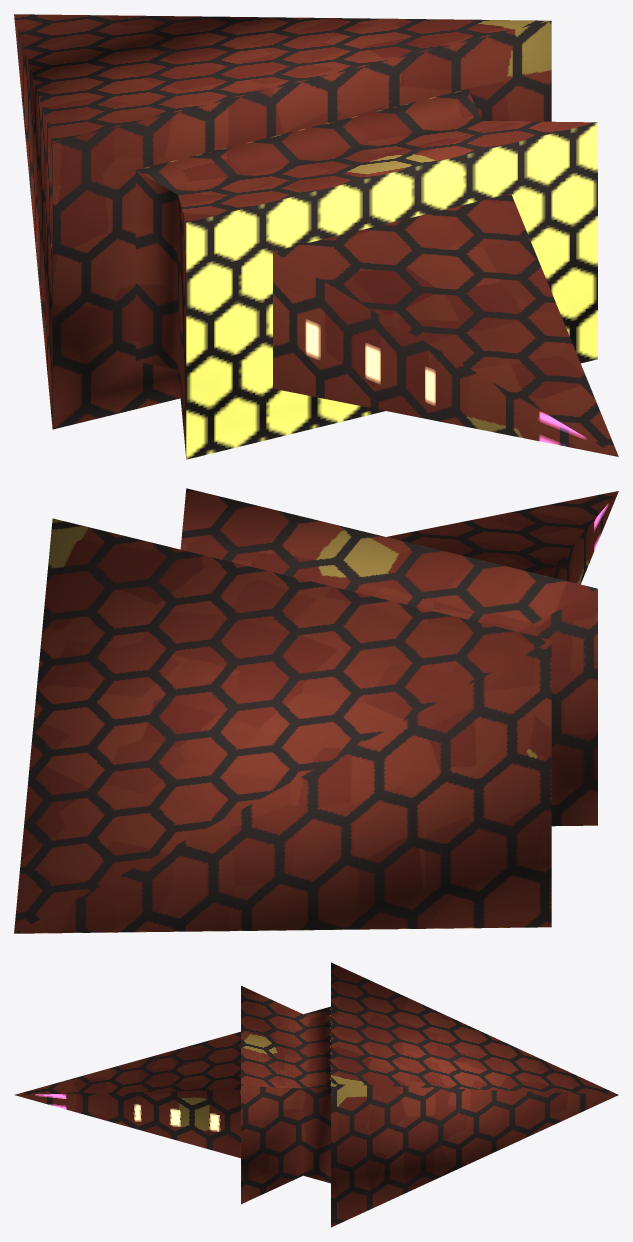
Rendered from zandrax_corvette.glb.
3 views of the same model, one above another, from view 1: azimuth 30°, elevation 25°; view 2: azimuth 150°, elevation 25°; view 3: azimuth 270°, elevation 25° (orthographic). The views are drawn at different scales.
Parts seen in each view (by area): view 1: ZandraxCorvette; view 2: ZandraxCorvette; view 3: ZandraxCorvette.
Boxes of the visible parts, x1,y1,x2,y2 form: ZandraxCorvette: (14,14,618,459); ZandraxCorvette: (14,488,618,933); ZandraxCorvette: (15,962,618,1227).
Size of the model in its own units: 13.33 by 7.33 by 28.
Materials: 1 (1 with a texture image).
